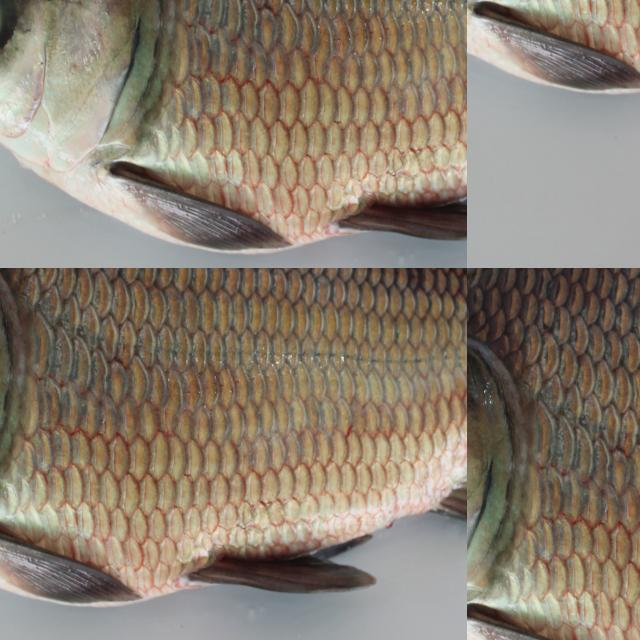fish: (467, 268, 640, 640)
